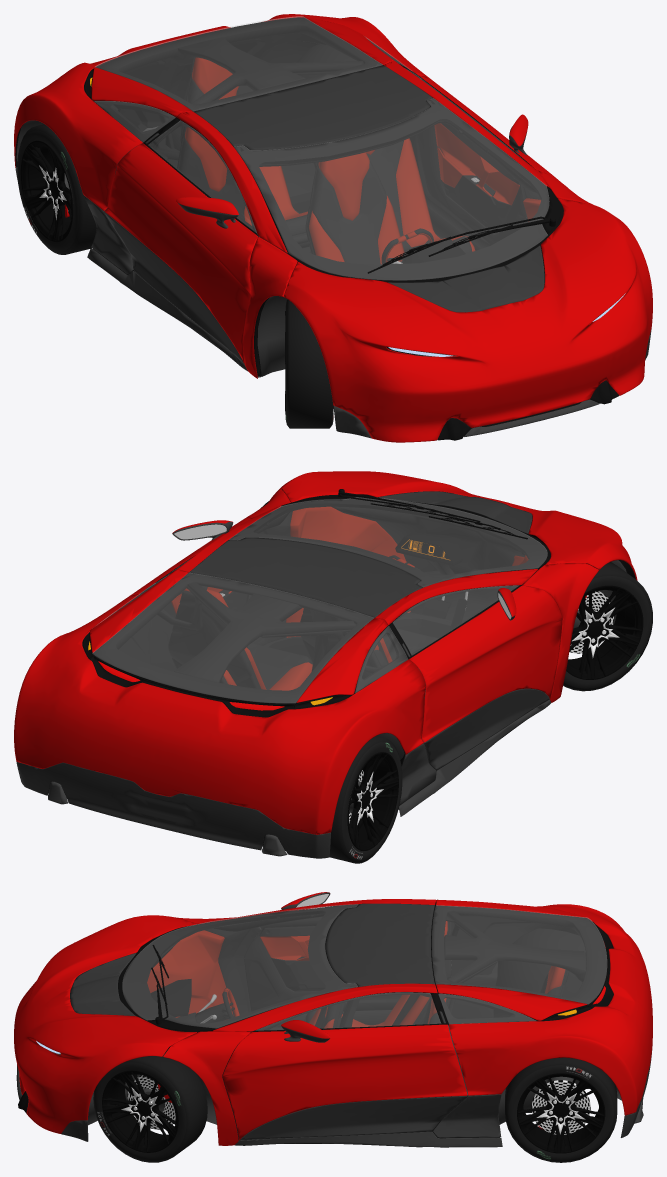
Rendered from car.glb.
The picture shows the model from 3 angles, top to bottom: view 1: azimuth 30°, elevation 25°; view 2: azimuth 150°, elevation 25°; view 3: azimuth 270°, elevation 25°; orthographic projection. The views are drawn at different scales.
Visible parts, largest first — view 1: BodyHood, BodyWindshield, BodyRearwindow, BodyDoorRColor1, BodyRearPanelsColor1, BodyRoofPanel, BodyWindshieldGasket, InteriorSeatsColor1, InteriorSeatsColor2, BodyPillars, InteriorPillar, InteriorRearHatch (+21 smaller); view 2: BodyRearPanelsColor1, BodyRearwindow, BodyWindshield, BodyPanelsColor2, BodyDoorRColor1, BodyRoofPanel, BodyHood, InteriorRearHatch, BodyPillars, InteriorPillar, BodyWindshieldGasket, InteriorDashMid (+21 smaller); view 3: BodyRearPanelsColor1, BodyWindshield, BodyDoorLColor1, BodyHood, BodyRearwindow, BodyRoofPanel, BodyPillars, BodyWindshieldGasket, BodyDoorLColor2, BodyPanelsColor2, WheelFrontL, InteriorRearHatch (+25 smaller).
Part boxes in pixels (x1,y1,x2,y2): BodyHood: [283, 198, 652, 442]; BodyWindshield: [234, 98, 549, 280]; BodyRearwindow: [95, 16, 382, 110]; BodyDoorRColor1: [104, 143, 257, 363]; BodyRearPanelsColor1: [14, 14, 428, 210]; BodyRoofPanel: [193, 65, 432, 150]; BodyWindshieldGasket: [234, 99, 563, 282]; InteriorSeatsColor1: [185, 57, 475, 264]; InteriorSeatsColor2: [180, 78, 472, 264]; BodyPillars: [176, 61, 598, 378]; InteriorPillar: [158, 37, 434, 168]; InteriorRearHatch: [93, 17, 383, 117]; BodyRearPanelsColor1: [14, 569, 425, 834]; BodyRearwindow: [92, 573, 373, 703]; BodyWindshield: [229, 497, 547, 587]; BodyPanelsColor2: [16, 700, 550, 858]; BodyDoorRColor1: [409, 585, 562, 742]; BodyRoofPanel: [189, 537, 422, 617]; BodyHood: [279, 471, 637, 580]; InteriorRearHatch: [93, 573, 386, 707]; BodyPillars: [175, 489, 599, 702]; InteriorPillar: [174, 574, 417, 682]; BodyWindshieldGasket: [230, 497, 550, 587]; InteriorDashMid: [331, 503, 528, 622]; BodyRearPanelsColor1: [436, 899, 652, 1115]; BodyWindshield: [122, 904, 357, 1028]; BodyDoorLColor1: [222, 1024, 467, 1139]; BodyHood: [14, 915, 196, 1133]; BodyRearwindow: [432, 905, 606, 1003]; BodyRoofPanel: [326, 903, 434, 986]; BodyPillars: [163, 899, 437, 1145]; BodyWindshieldGasket: [118, 905, 357, 1032]; BodyDoorLColor2: [240, 1096, 467, 1140]; BodyPanelsColor2: [16, 1050, 652, 1147]; WheelFrontL: [93, 1054, 207, 1162]; InteriorRearHatch: [431, 905, 606, 1020].
Size of the model in its own units: 1.87 by 0.8437 by 3.2.
Materials: 22 (3 with a texture image).
